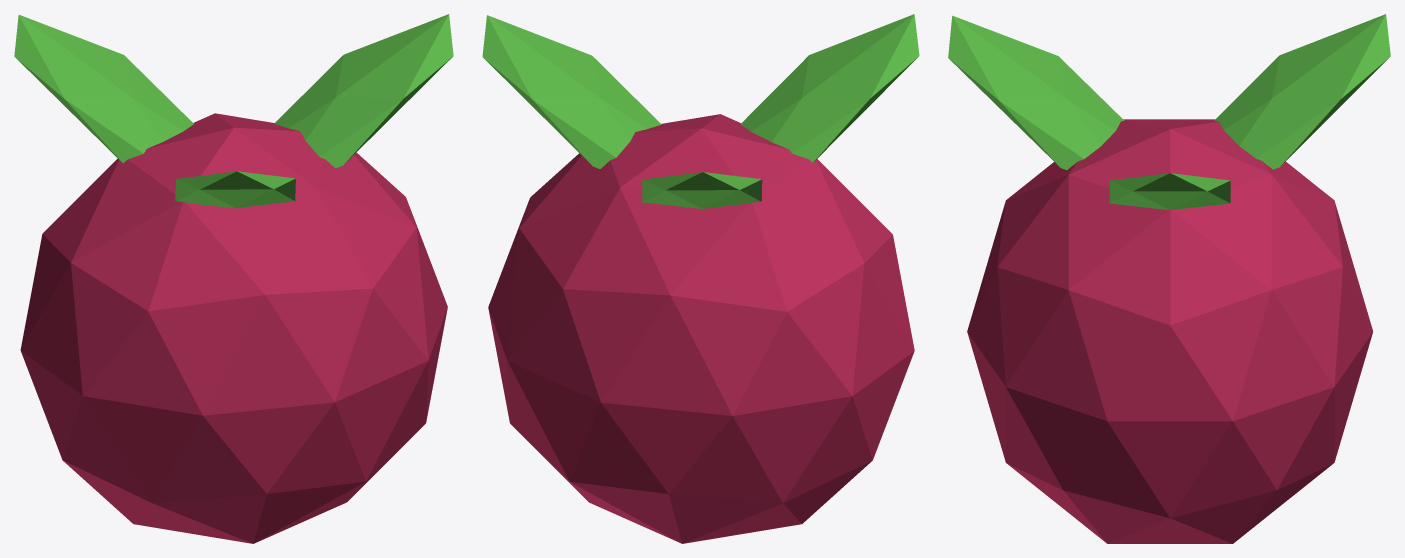
The model's file is harvest_drop_beet.glb.
The picture shows the model from 3 angles, left to right: view 1: azimuth 30°, elevation 25°; view 2: azimuth 150°, elevation 25°; view 3: azimuth 270°, elevation 25°; orthographic projection.
Parts seen in each view (by area): view 1: FTF_Harvest_Drop_Beet_Mesh; view 2: FTF_Harvest_Drop_Beet_Mesh; view 3: FTF_Harvest_Drop_Beet_Mesh.
Part boxes in pixels (x1=…): FTF_Harvest_Drop_Beet_Mesh: x1=14, y1=14, x2=453, y2=543; FTF_Harvest_Drop_Beet_Mesh: x1=482, y1=14, x2=919, y2=543; FTF_Harvest_Drop_Beet_Mesh: x1=948, y1=14, x2=1390, y2=543.
Size of the model in its own units: 0.4555 by 0.5071 by 0.436.
